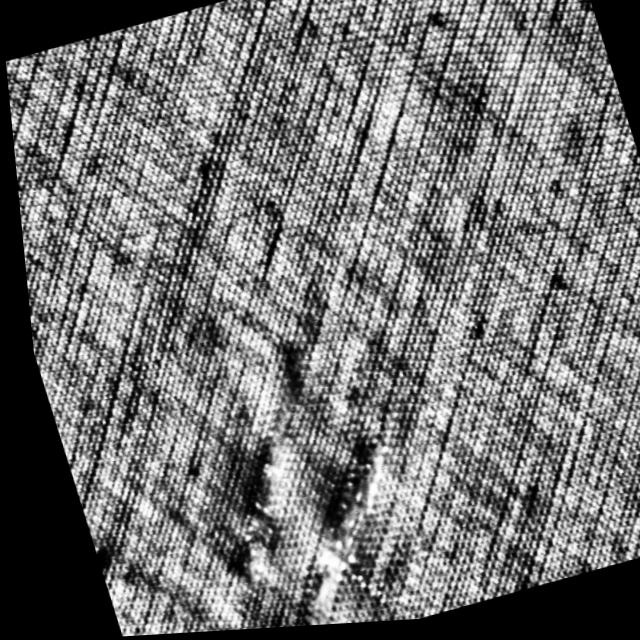Stitch: (246, 405, 436, 633), (180, 457, 317, 630)
